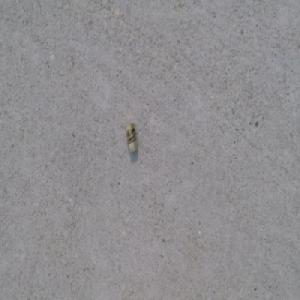BoltNutSet: (125, 122, 139, 152)
